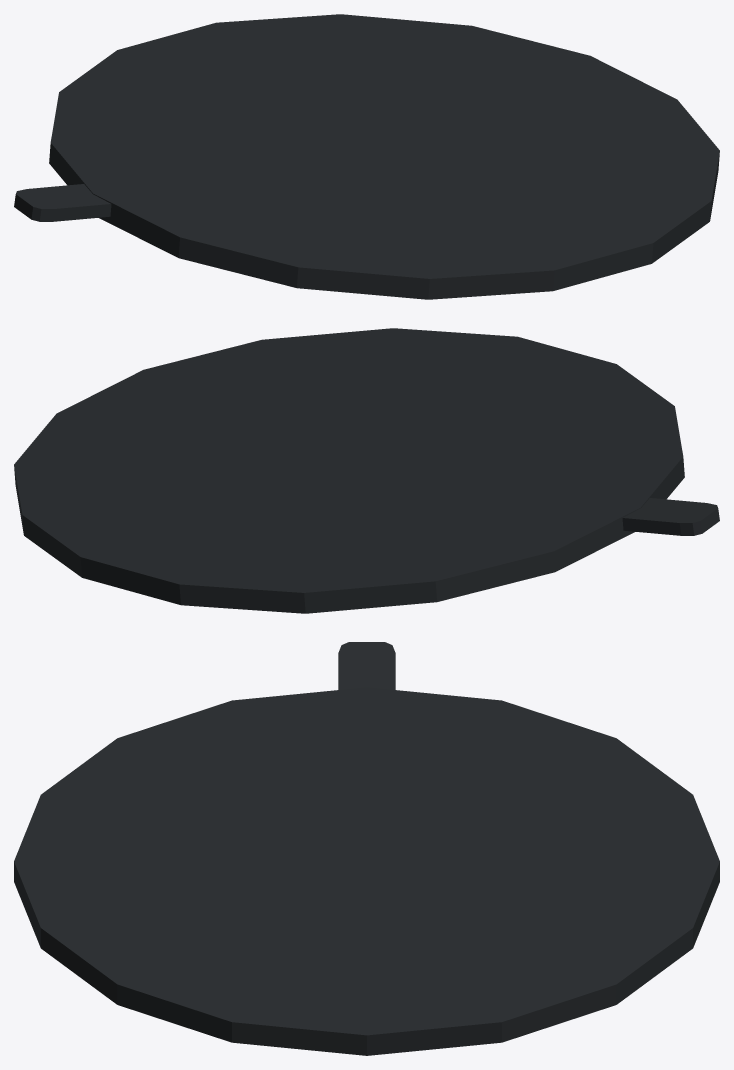
File: Kettle1_C2_03.fbx
The picture shows the model from 3 angles, top to bottom: view 1: azimuth 30°, elevation 25°; view 2: azimuth 150°, elevation 25°; view 3: azimuth 270°, elevation 25°; orthographic projection. The views are drawn at different scales.
Parts seen in each view (by area): view 1: Kettle1_C2_03; view 2: Kettle1_C2_03; view 3: Kettle1_C2_03.
Part boxes in pixels (<box>): Kettle1_C2_03: <box>14,14,719,299</box>; Kettle1_C2_03: <box>14,328,719,613</box>; Kettle1_C2_03: <box>14,642,719,1055</box>.
Bounding box in the file's own units: 26.47 × 3.05 × 23.7.
